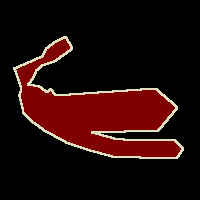tie: (14, 36, 183, 158)
